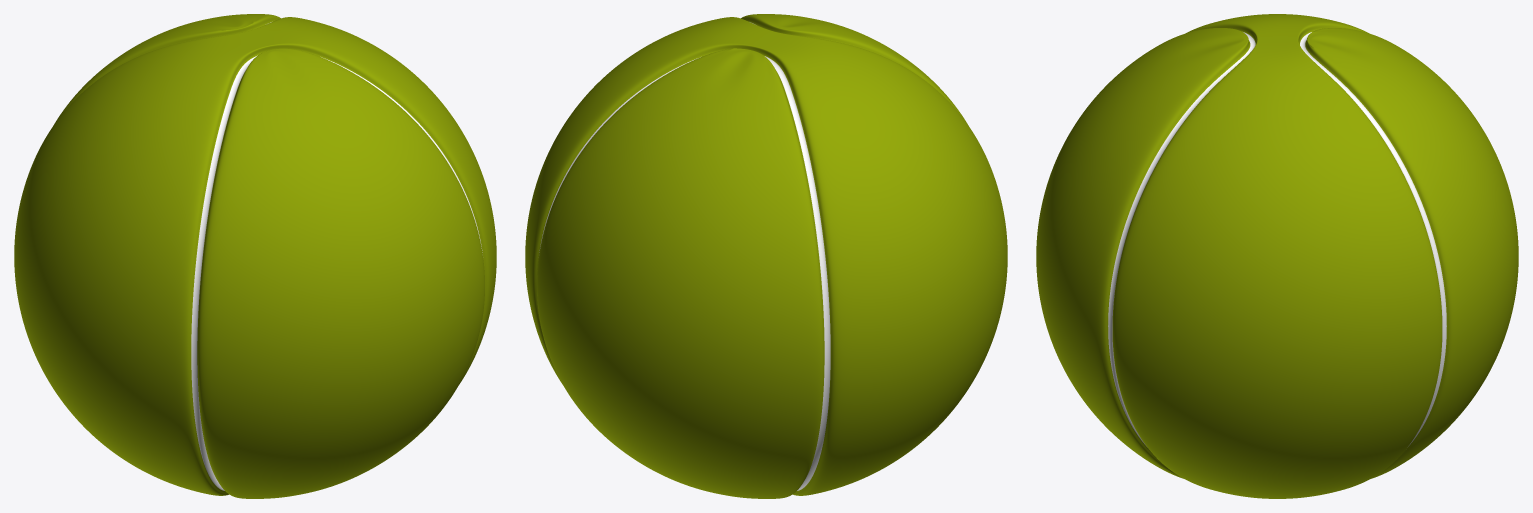
File: tenis ball.fbx
3 renders of one model, left to right at view 1: azimuth 30°, elevation 25°; view 2: azimuth 150°, elevation 25°; view 3: azimuth 270°, elevation 25°, orthographic.
Parts seen in each view (by area): view 1: Sphere001; view 2: Sphere001; view 3: Sphere001.
Part boxes in pixels (x1,y1,x2,y2): Sphere001: (14,14,496,498); Sphere001: (525,14,1007,498); Sphere001: (1036,14,1518,498).
Bounding box in the file's own units: 57.83 × 57.44 × 57.83.
